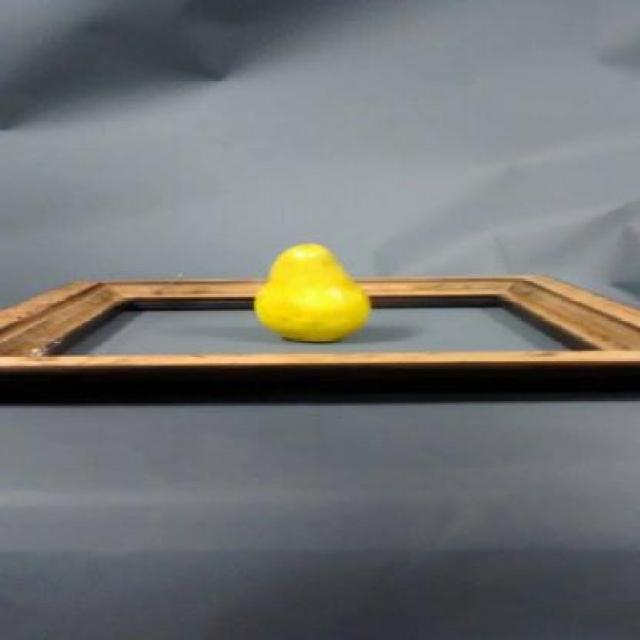Pear: (252, 240, 364, 342)
